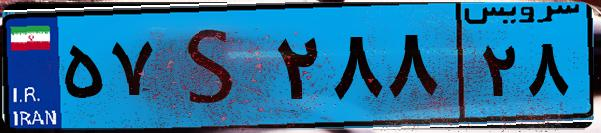2: (270, 28, 330, 110), (475, 38, 525, 113)
5: (57, 26, 110, 100)
7: (110, 28, 158, 98)
8: (385, 28, 445, 110), (330, 28, 385, 110), (525, 38, 570, 115)
S: (158, 12, 270, 120)
